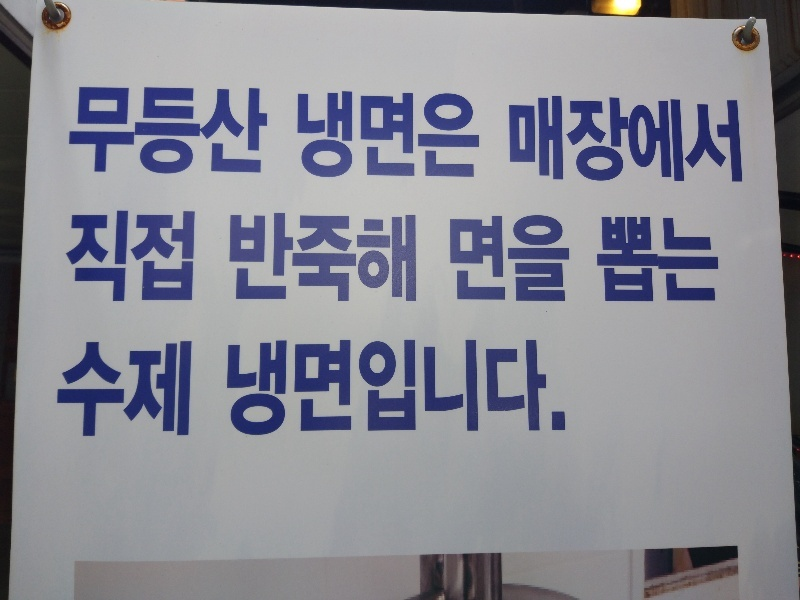text: (65, 336, 80, 444), (81, 336, 96, 444), (97, 336, 112, 444), (113, 336, 128, 444), (129, 336, 144, 444), (145, 336, 160, 444), (161, 336, 176, 444), (177, 336, 192, 444), (225, 337, 240, 442), (241, 337, 256, 442), (257, 337, 272, 442), (273, 337, 288, 442), (289, 337, 304, 442), (305, 337, 320, 442), (321, 337, 336, 442), (337, 337, 352, 442), (353, 337, 368, 442), (369, 337, 384, 442), (385, 337, 400, 442), (401, 337, 416, 442), (417, 337, 432, 442), (433, 337, 448, 442), (449, 337, 464, 442), (465, 337, 480, 442), (481, 337, 496, 442), (497, 337, 512, 442), (513, 337, 528, 442), (529, 337, 544, 442), (545, 337, 560, 442), (65, 210, 80, 308), (81, 210, 96, 308), (97, 210, 112, 308), (113, 210, 128, 308), (129, 210, 144, 308), (145, 210, 160, 308), (161, 210, 176, 308), (177, 210, 192, 308), (305, 86, 320, 182), (321, 86, 336, 182), (337, 86, 352, 182), (353, 86, 368, 182), (369, 86, 384, 182), (385, 86, 400, 182), (401, 86, 416, 182), (417, 86, 432, 182), (433, 86, 448, 182), (449, 86, 464, 182), (465, 86, 480, 182), (513, 95, 528, 191), (529, 95, 544, 191), (545, 95, 560, 191), (561, 95, 576, 191), (577, 95, 592, 191), (593, 95, 608, 191), (609, 95, 624, 191), (625, 95, 640, 191), (641, 95, 656, 191), (657, 95, 672, 191), (673, 95, 688, 191), (689, 95, 704, 191), (705, 95, 720, 191), (721, 95, 736, 191), (449, 212, 464, 306), (465, 212, 480, 306), (481, 212, 496, 306), (497, 212, 512, 306), (513, 212, 528, 306), (529, 212, 544, 306), (545, 212, 560, 306), (609, 213, 624, 307), (625, 213, 640, 307), (641, 213, 656, 307), (657, 213, 672, 307), (673, 213, 688, 307), (689, 213, 704, 307), (705, 213, 720, 307), (81, 84, 96, 177), (97, 84, 112, 177), (113, 84, 128, 177), (129, 84, 144, 177), (145, 84, 160, 177), (161, 84, 176, 177), (177, 84, 192, 177), (193, 84, 208, 177), (209, 84, 224, 177), (225, 84, 240, 177), (241, 84, 256, 177), (241, 212, 256, 304), (257, 212, 272, 304), (273, 212, 288, 304), (289, 212, 304, 304), (305, 212, 320, 304), (321, 212, 336, 304), (337, 212, 352, 304), (353, 212, 368, 304), (369, 212, 384, 304), (385, 212, 400, 304), (401, 212, 416, 304), (226, 212, 240, 304), (561, 212, 574, 306), (257, 84, 269, 177), (597, 213, 608, 307), (69, 84, 80, 177), (295, 86, 304, 182), (504, 95, 512, 191), (737, 95, 745, 191), (561, 337, 568, 442), (193, 210, 197, 308), (481, 86, 485, 182), (61, 210, 64, 308), (721, 213, 724, 307), (62, 336, 64, 444), (446, 212, 448, 306), (193, 336, 194, 444), (417, 212, 418, 304)
